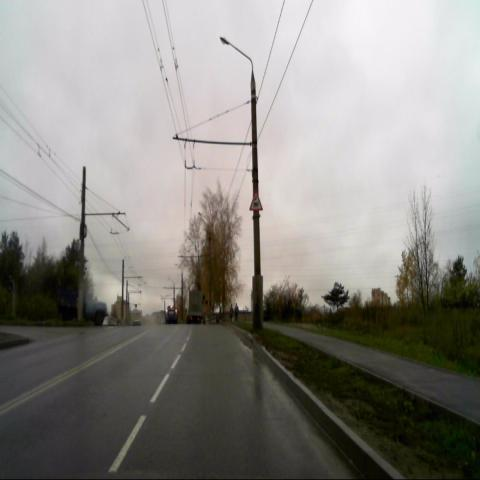1_2: (249, 189, 263, 211)
